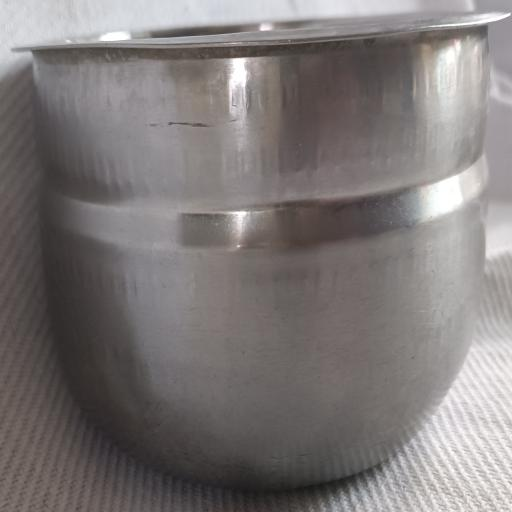vessel: (32, 13, 507, 488)
